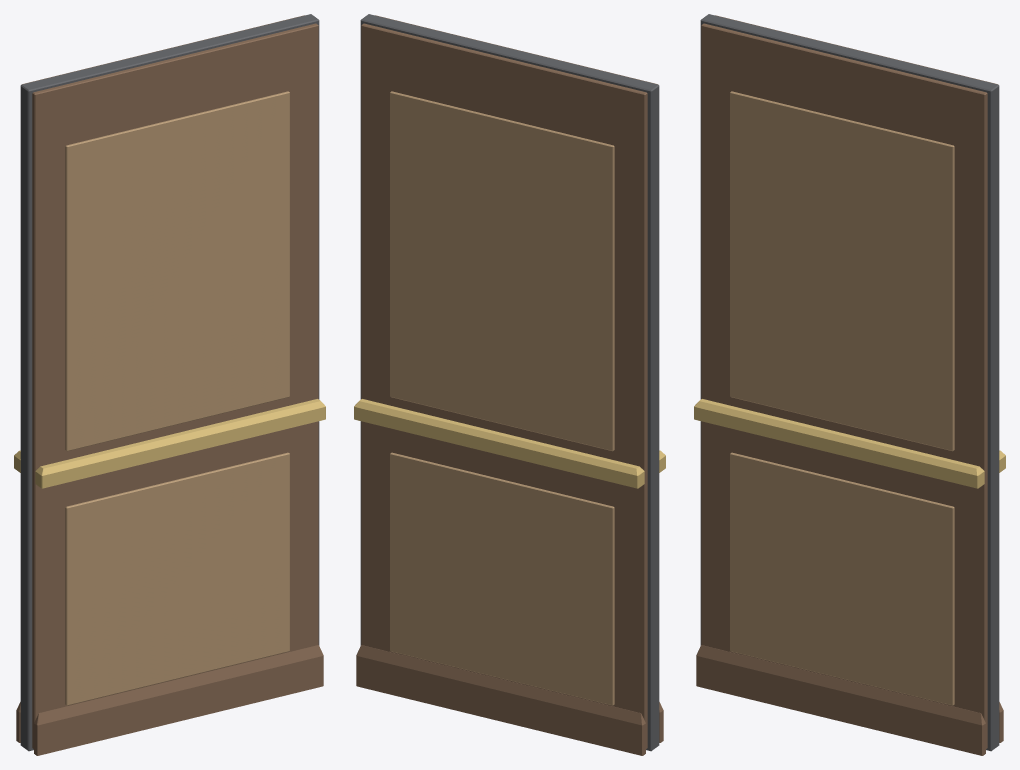
Rendered from escape-room-and-puzzle-venue-puzzle-room-wall-module-p-a29fc9ca__35770.glb.
The picture shows the model from 3 angles, left to right: view 1: azimuth 30°, elevation 25°; view 2: azimuth 150°, elevation 25°; view 3: azimuth 330°, elevation 25°; orthographic projection.
Parts seen in each view (by area): view 1: puzzle-room-wall-module-panelled; view 2: puzzle-room-wall-module-panelled; view 3: puzzle-room-wall-module-panelled.
Boxes of the visible parts, <box> form: puzzle-room-wall-module-panelled: <box>14,14,325,755</box>; puzzle-room-wall-module-panelled: <box>354,14,665,755</box>; puzzle-room-wall-module-panelled: <box>694,14,1005,755</box>.
Bounding box in the file's own units: 1.2 × 2.6 × 0.202.
